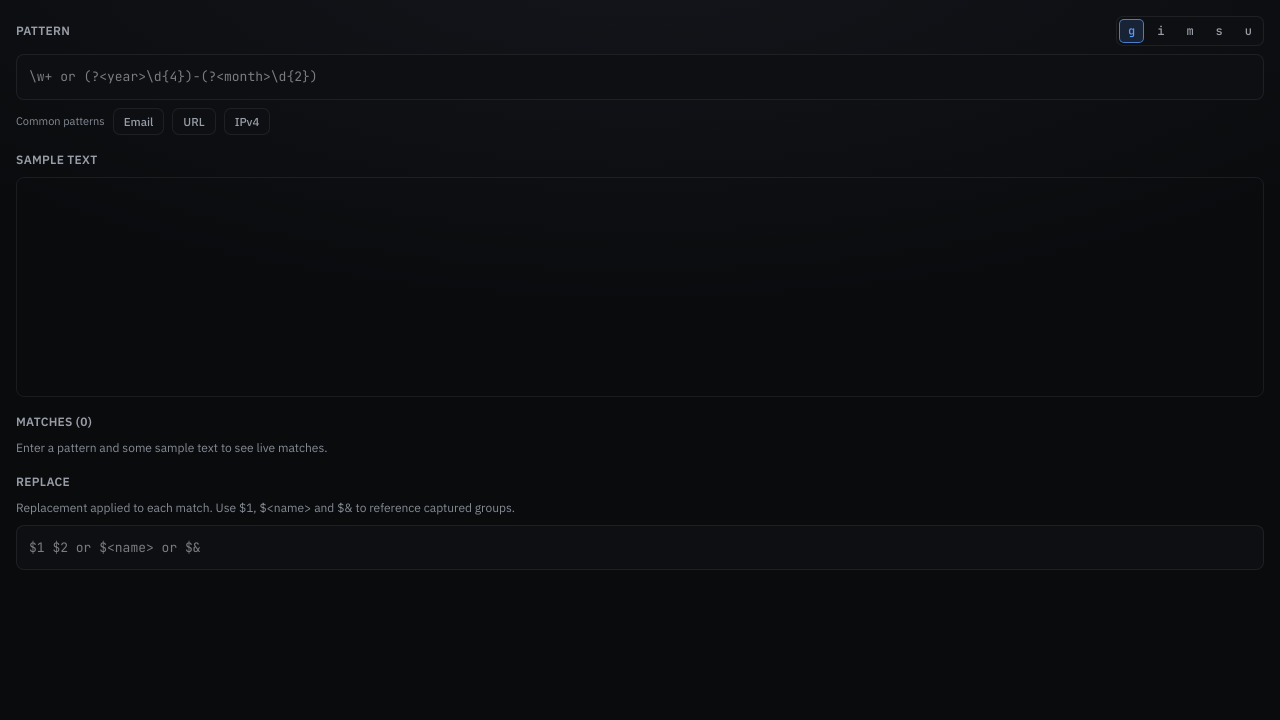
Test: RegexTool › shows a labeled, visible Result pane (not a bare input) once Replace is non-empty (RGX-04 — human-review clarity)
Expected: the text "Result" is not shown
In the field with id "regex-replace": [640, 548] box left=16, top=525, right=1264, bottom=570, type "$1"
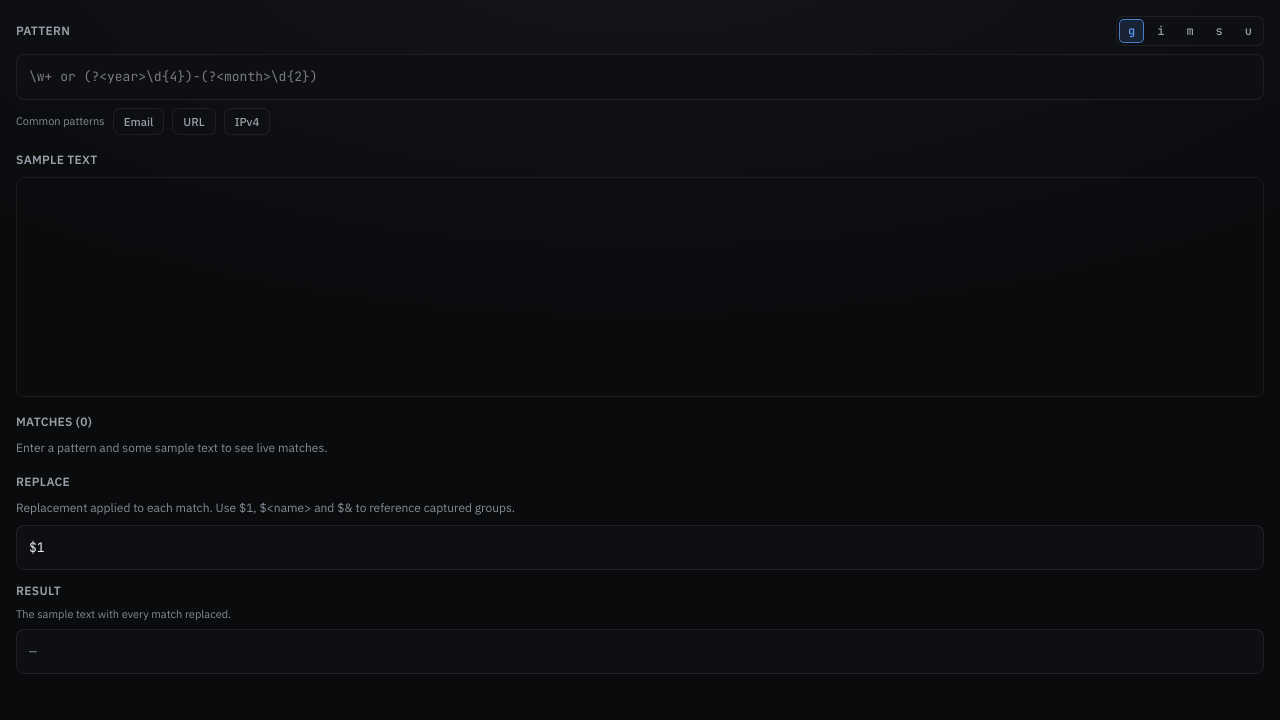
Expected: the text "Result" is shown, left=16, top=582, right=61, bottom=600
Expected: the element with id "regex-preview" is shown, left=16, top=629, right=1264, bottom=674
